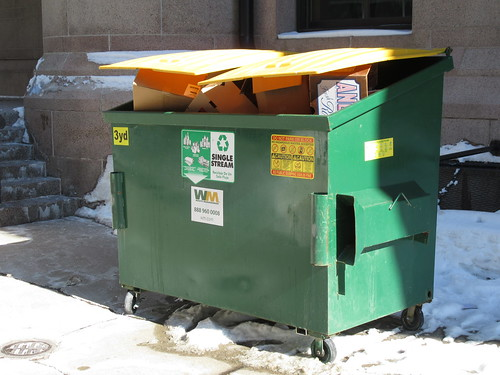Dumpster: (92, 45, 457, 364)
